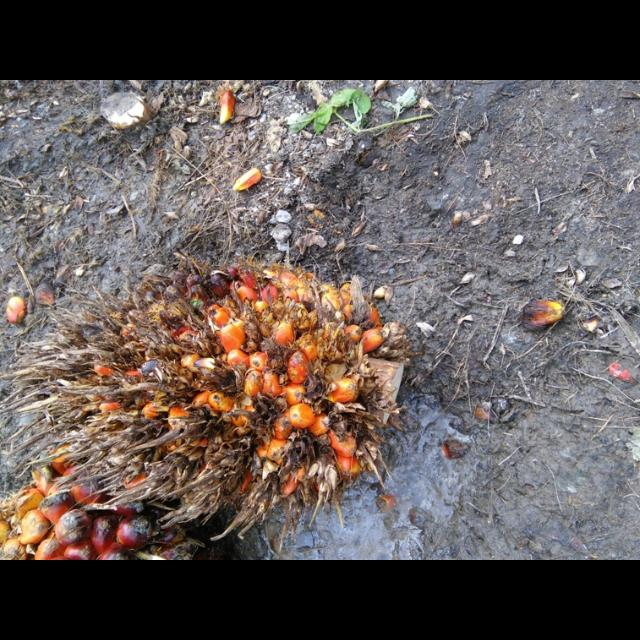Unripe: (14, 261, 411, 537)
